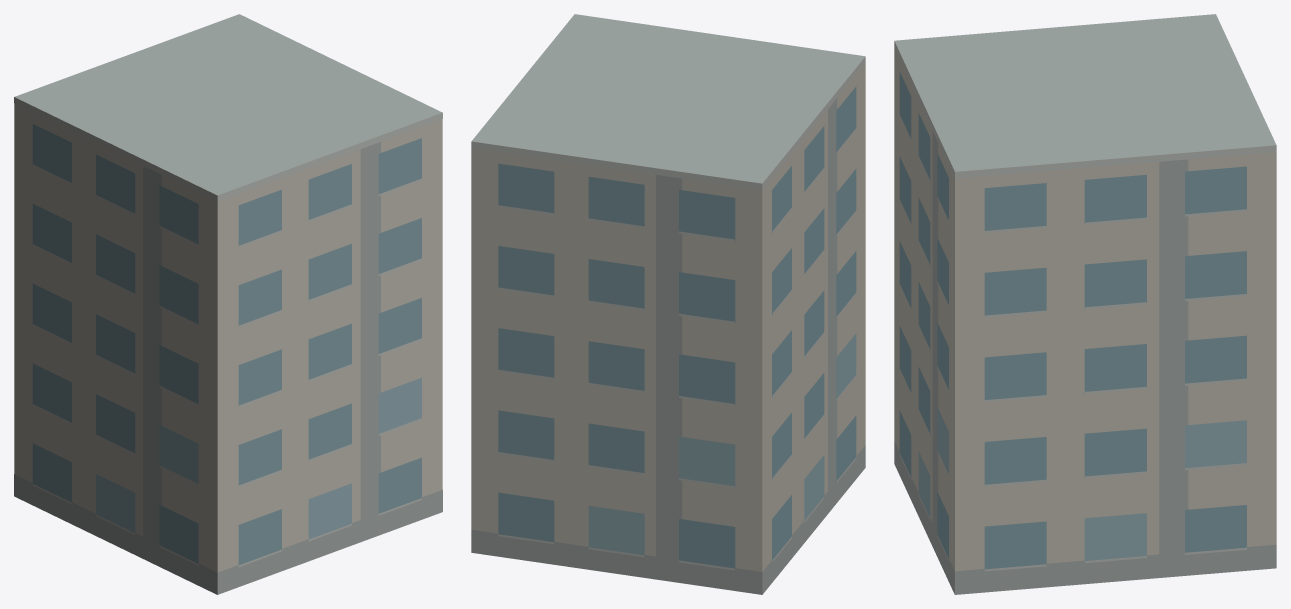
Rendered from residential-efc02e4d-df37-4523-97c8-2817df527947.glb.
The picture shows the model from 3 angles, left to right: view 1: azimuth 30°, elevation 25°; view 2: azimuth 150°, elevation 25°; view 3: azimuth 270°, elevation 25°; orthographic projection. The views are drawn at different scales.
Parts seen in each view (by area): view 1: residential-efc02e4d-df37-4523-97c8-2817df527947.tmp; view 2: residential-efc02e4d-df37-4523-97c8-2817df527947.tmp; view 3: residential-efc02e4d-df37-4523-97c8-2817df527947.tmp.
Part boxes in pixels (bbox=[...]): residential-efc02e4d-df37-4523-97c8-2817df527947.tmp: bbox=[14, 14, 442, 594]; residential-efc02e4d-df37-4523-97c8-2817df527947.tmp: bbox=[471, 14, 865, 594]; residential-efc02e4d-df37-4523-97c8-2817df527947.tmp: bbox=[894, 14, 1276, 594].
Bounding box in the file's own units: 12.22 × 15.25 × 12.5.
